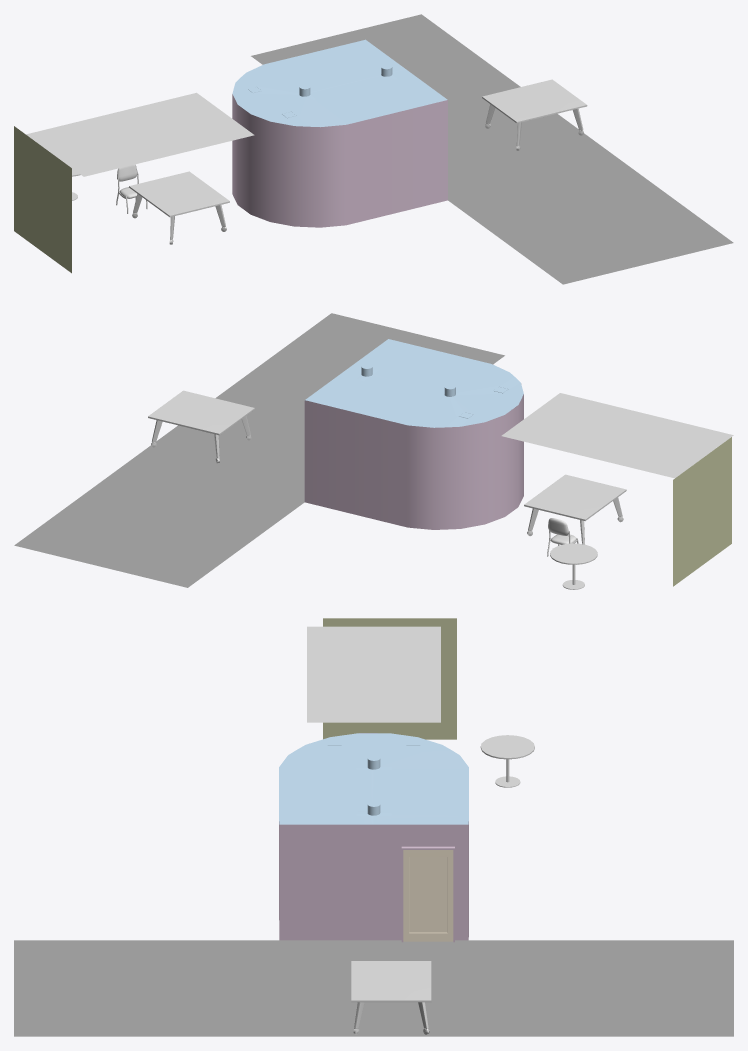
The model's file is Consultation_Env_Substance.fbx.
3 views of the same model, one above another, from view 1: azimuth 30°, elevation 25°; view 2: azimuth 150°, elevation 25°; view 3: azimuth 270°, elevation 25° (orthographic). The views are drawn at different scales.
Parts seen in each view (by area): view 1: polySurface1, Walls, Meeting_Room_Roof, Roof, Wall, Table3, Table; view 2: polySurface1, Walls, Meeting_Room_Roof, Roof, Wall, Table3, Table, Circle_Table; view 3: polySurface1, Walls, Meeting_Room_Roof, Roof, Wall, Table3, Glass, Door, Circle_Table.
Boxes of the visible parts, x1,y1,x2,y2 form: polySurface1: (251, 14, 733, 284); Walls: (232, 94, 447, 227); Meeting_Room_Roof: (232, 39, 447, 127); Roof: (26, 92, 254, 176); Wall: (14, 126, 71, 273); Table3: (482, 79, 587, 150); Table: (129, 171, 229, 244); polySurface1: (14, 313, 504, 587); Walls: (304, 394, 523, 529); Meeting_Room_Roof: (305, 339, 523, 427); Roof: (501, 393, 733, 478); Wall: (673, 437, 731, 586); Table3: (148, 390, 254, 463); Table: (524, 474, 626, 544); Circle_Table: (550, 543, 597, 589); polySurface1: (14, 940, 733, 1036); Walls: (279, 733, 468, 940); Meeting_Room_Roof: (279, 733, 468, 824); Roof: (307, 626, 440, 722); Wall: (323, 618, 456, 739); Table3: (351, 961, 431, 1034); Glass: (409, 857, 447, 932); Door: (403, 850, 453, 941); Circle_Table: (480, 735, 534, 787).
Bounding box in the file's own units: 13.12 × 2.58 × 13.45.
